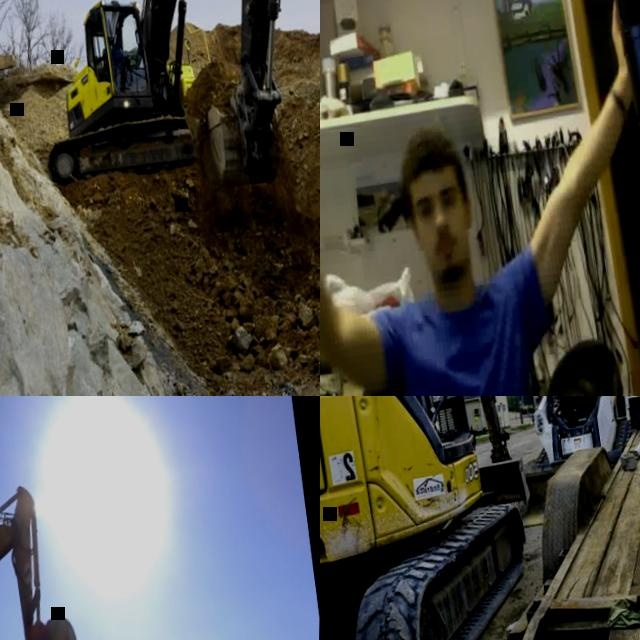NO-Hardhat: (397, 127, 458, 188)
NO-Mask: (426, 231, 471, 284)
NO-Safety Vest: (388, 292, 543, 396)
Person: (320, 0, 640, 396), (101, 37, 121, 71)
machinery: (0, 0, 320, 216), (320, 396, 560, 640), (487, 396, 640, 530), (0, 480, 101, 640)
